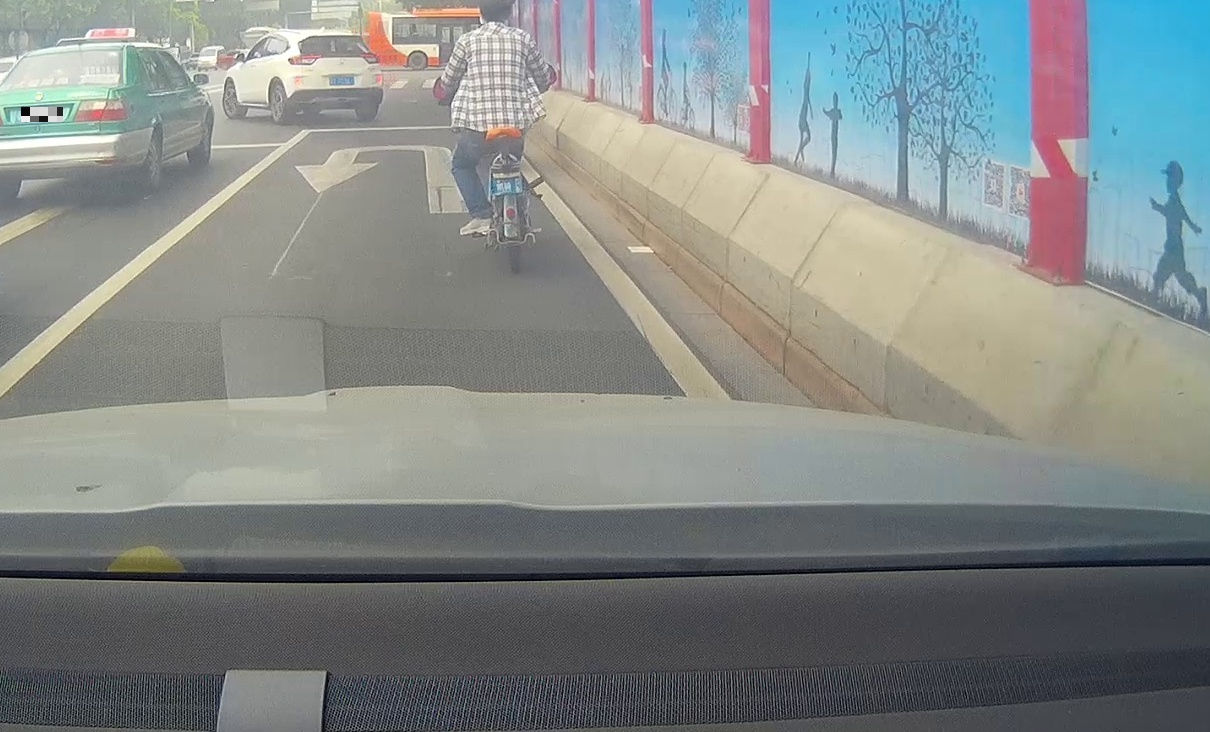L_light: (287, 53, 322, 65)
R_light: (359, 52, 381, 64)
T_light: (332, 36, 346, 39)
day-left: (287, 32, 384, 123)
plate_1: (21, 107, 63, 122)
